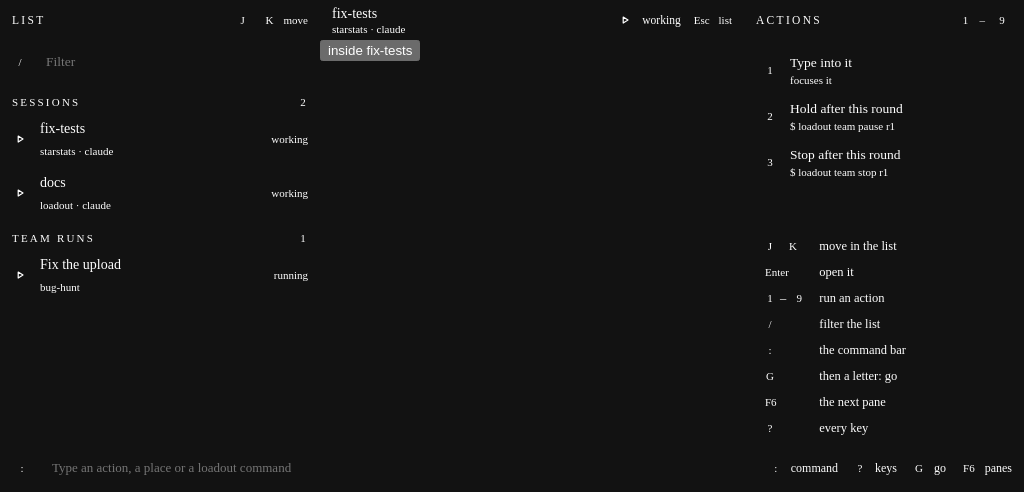
the list › filters on /, and Escape clears the filter and goes back to the list
Press / in the list named "Everything live", box [10, 96, 308, 293]
Type "upload" into the search field named "Filter the list".
click(174, 62); type("upload")  # box [38, 46, 310, 78]
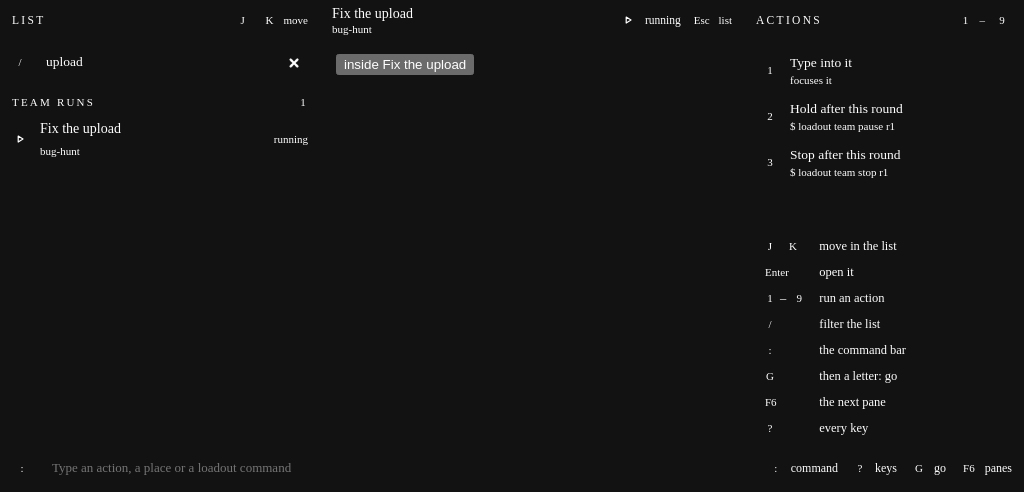
Press Escape in the search field named "Filter the list", box [38, 46, 310, 78]
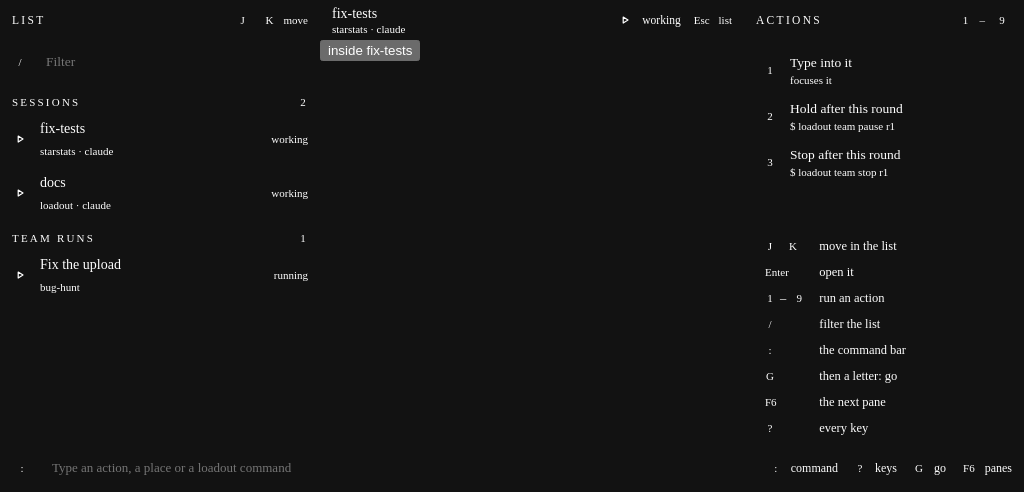
Check: the search field named "Filter the list" is empty, box [38, 46, 310, 78]
Check: the number of options is 3, box [0, 112, 320, 166]; [0, 166, 320, 220]; [0, 248, 320, 302]
